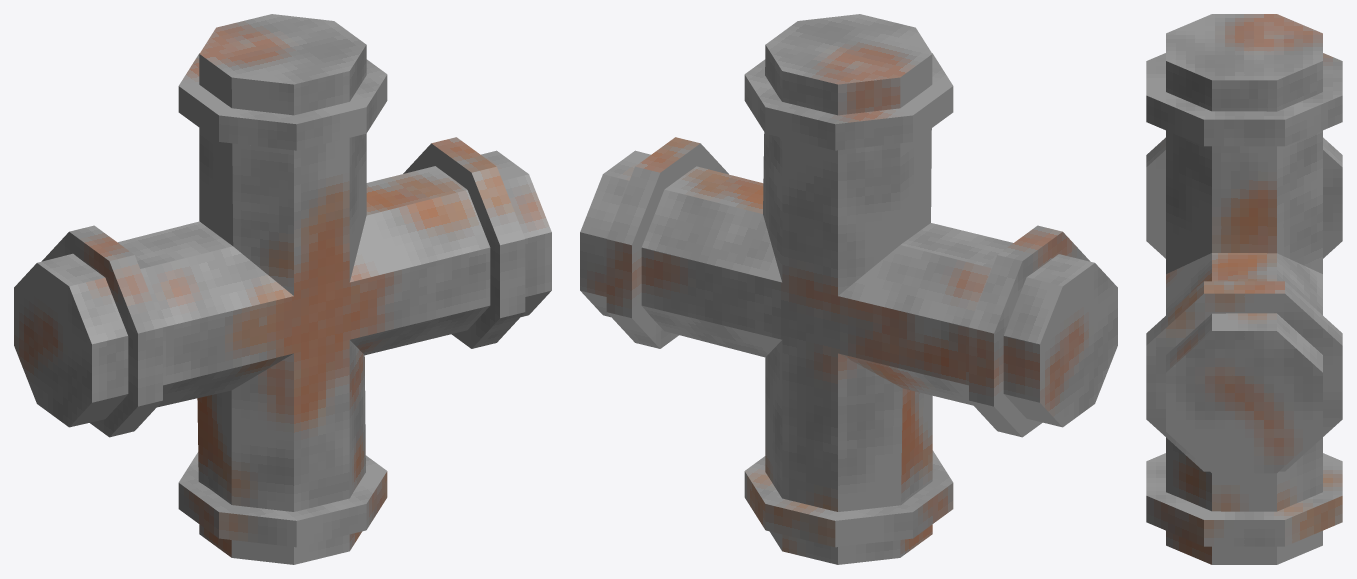
The model's file is pipe_junction_cross.gltf.
3 renders of one model, left to right at view 1: azimuth 30°, elevation 25°; view 2: azimuth 150°, elevation 25°; view 3: azimuth 270°, elevation 25°, orthographic.
Parts seen in each view (by area): view 1: cylinder (×5); view 2: cylinder (×5); view 3: cylinder (×5).
Part boxes in pixels (x1,y1,x2,y2): cylinder (×5): (14, 14, 551, 564); cylinder (×5): (580, 14, 1117, 564); cylinder (×5): (1146, 14, 1342, 564).
Bounding box in the file's own units: 3.41 × 3.41 × 1.25.
Materials: 1 (1 with a texture image).
